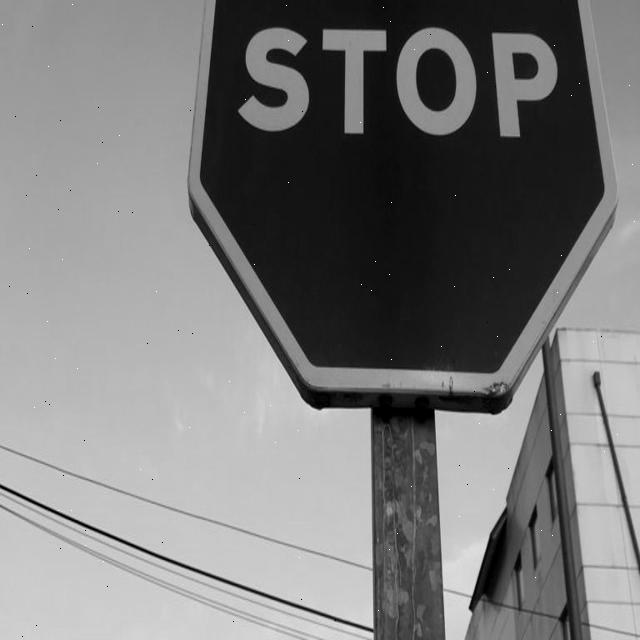Stop-sign: (174, 0, 630, 450)
